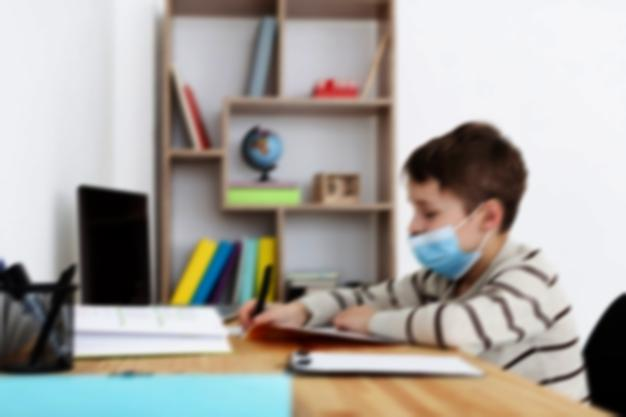mask_weared_incorrect: (403, 119, 524, 283)
